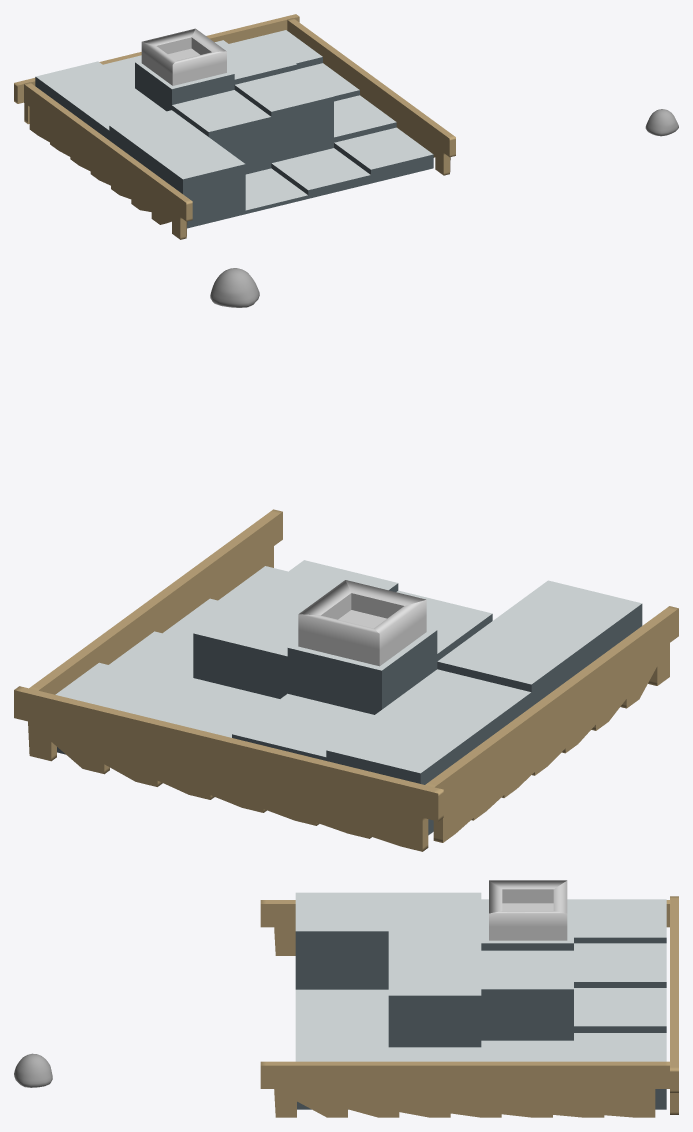
The model's file is shrine.fbx.
3 renders of one model, top to bottom at view 1: azimuth 30°, elevation 25°; view 2: azimuth 150°, elevation 25°; view 3: azimuth 270°, elevation 25°, orthographic. The views are drawn at different scales.
Visible parts, largest first — view 1: polySurface121; view 2: polySurface121; view 3: polySurface121.
Part boxes in pixels (x1,y1,x2,y2): polySurface121: (14, 14, 678, 239); polySurface121: (14, 268, 678, 851); polySurface121: (14, 880, 678, 1117).
Size of the model in its own units: 683 by 171 by 770.
